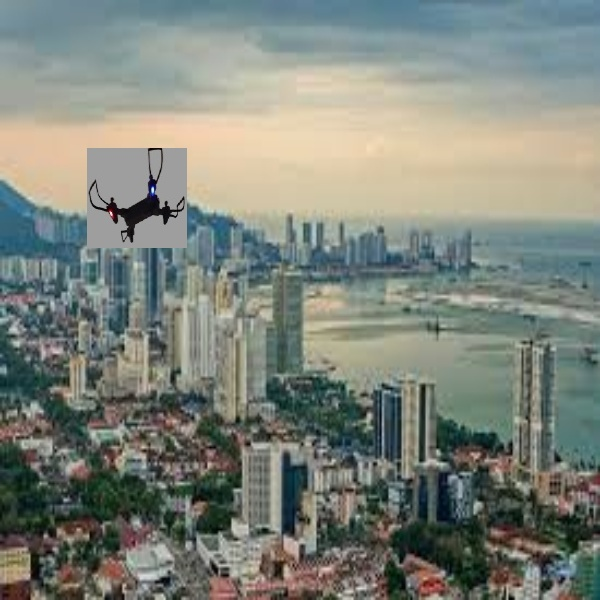drone: (88, 149, 187, 247)
